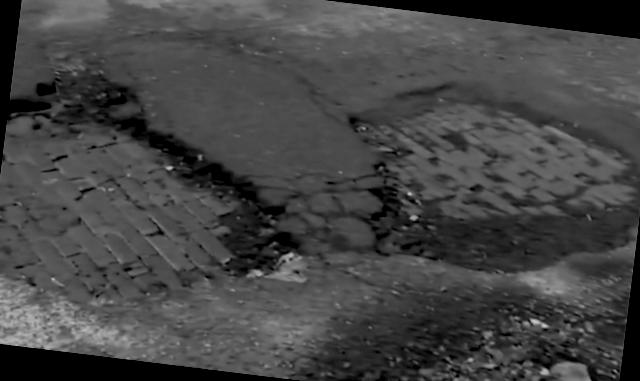Pothole: (0, 55, 325, 330), (318, 57, 640, 308)
